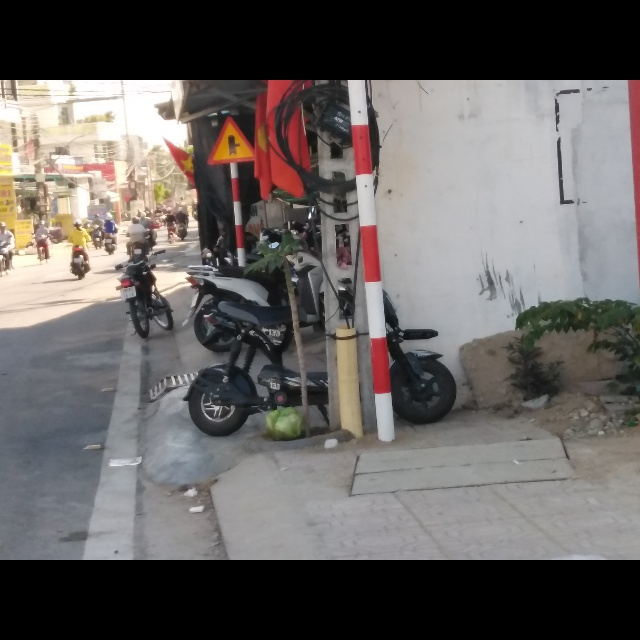Giao nhau với đường không ưu tiên: (207, 117, 257, 164)
